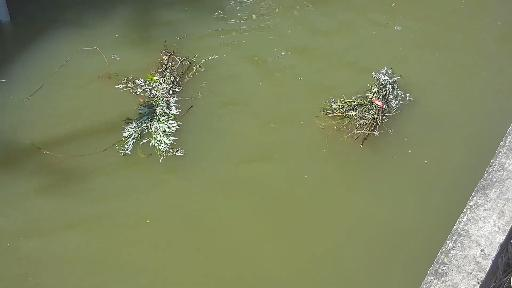twig: (85, 39, 213, 163), (310, 58, 411, 144)
